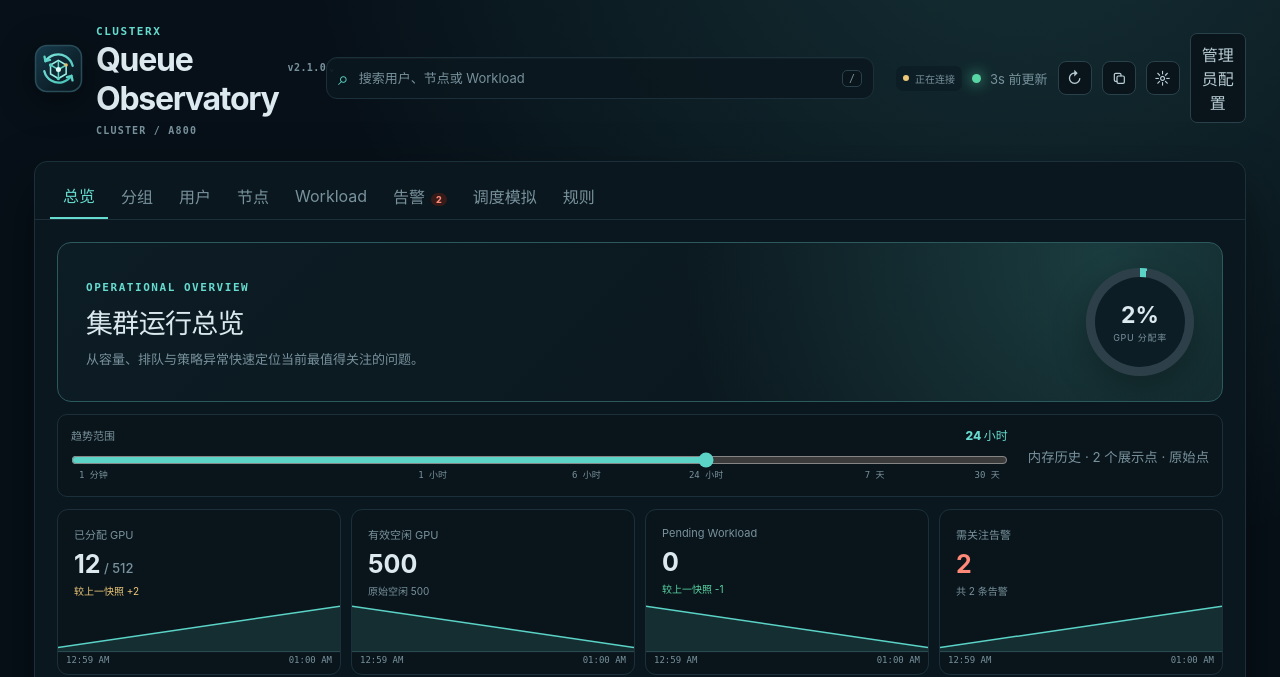
Clusterx monitor dashboard › combines resource, group-owned node and placement scopes when allocation is enabled
Check: the heading "Queue Observatory" is shown, box [96,40,278,118]
Click the button with aria-label "planner".
click(505, 196)  # box [460,173,550,219]
(page scrolled)
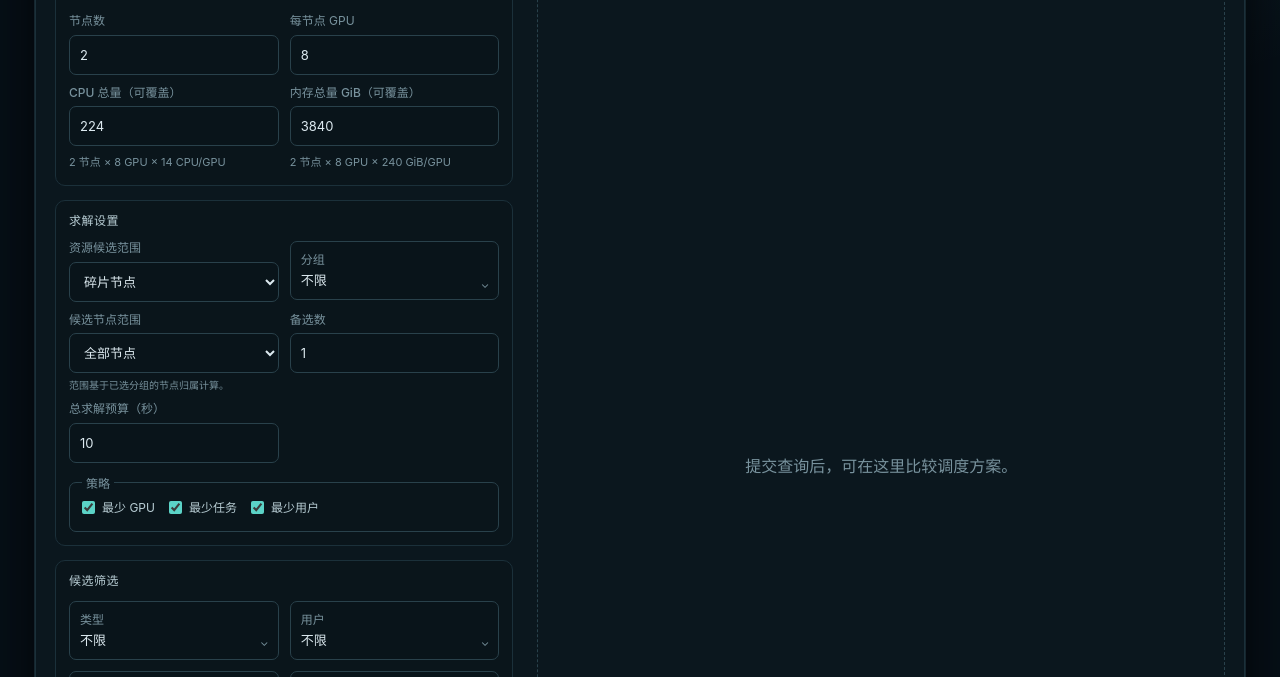
Check: the dropdown labelled "候选节点范围" is enabled
Select "所选分组节点" in the dropdown labelled "候选节点范围" at (174, 353), box [69,333,279,373]
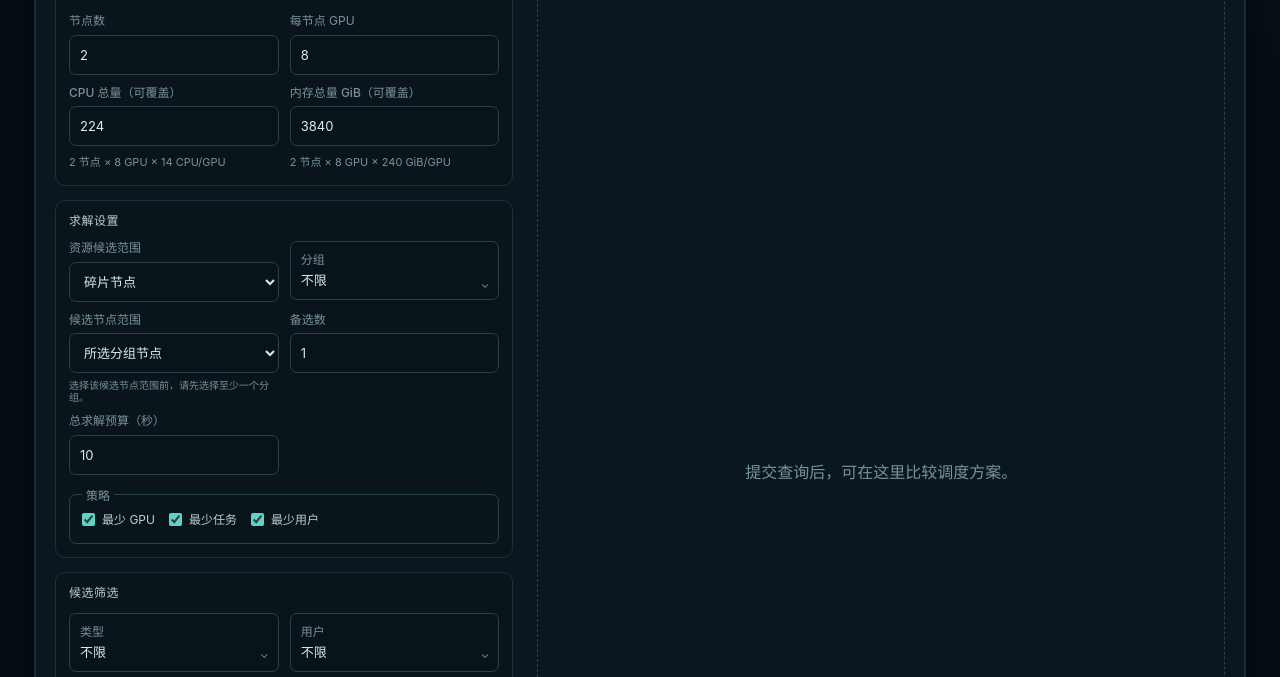
Check: the text "选择该候选节点范围前，请先选择至少一个分组。" is shown, box [69,379,279,403]
Click the text "分组".
click(313, 260)  # box [301,252,325,267]
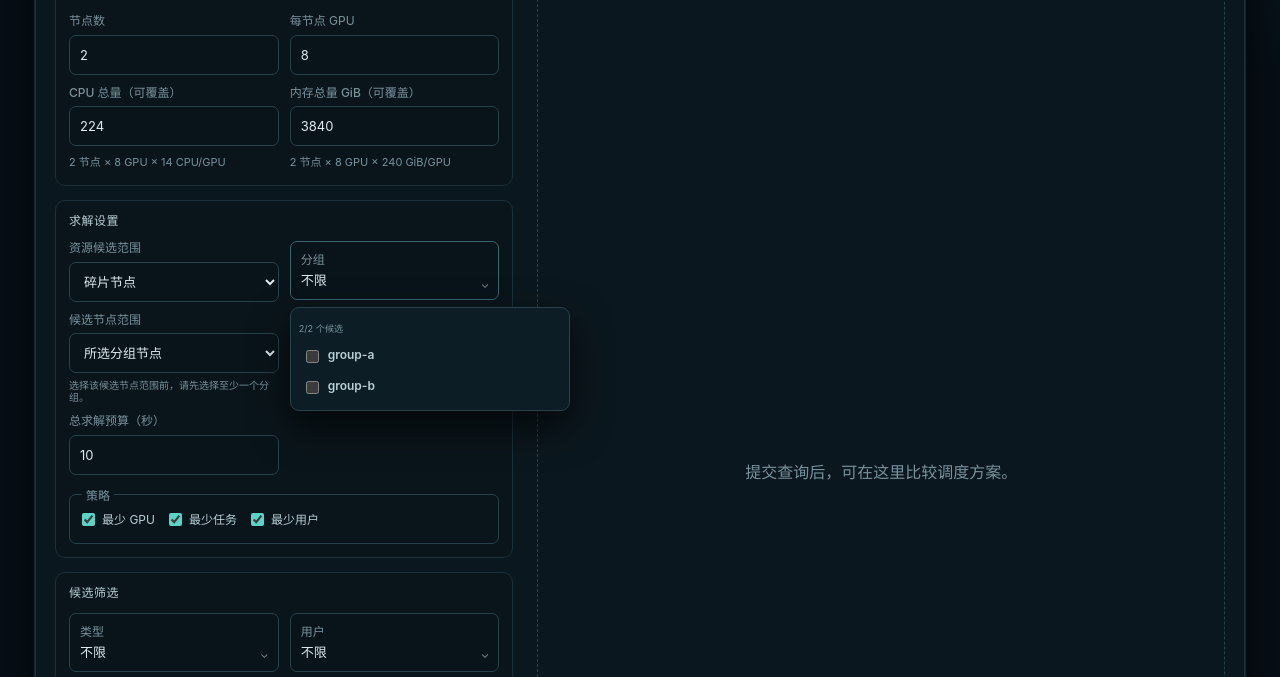
Click the checkbox named "分组：group-a".
click(312, 356)  # box [306,350,319,363]
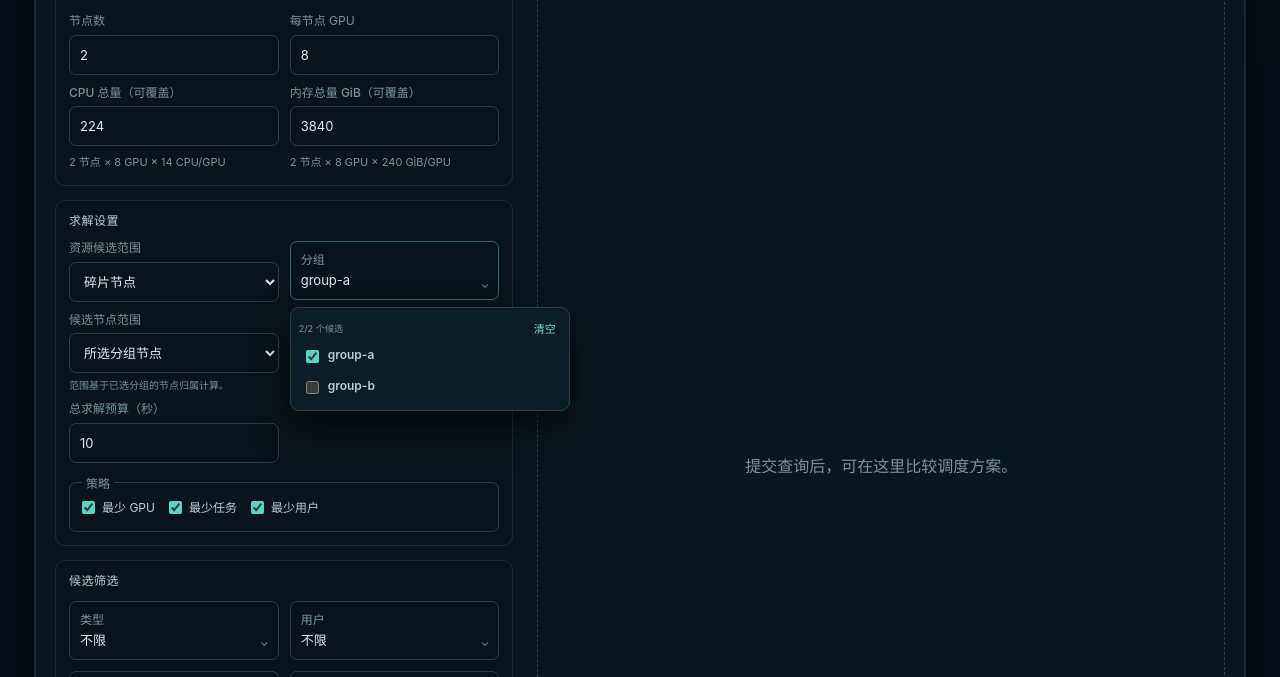
Check: the dropdown labelled "候选节点范围" is enabled
Select "其他分组节点" in the dropdown labelled "候选节点范围" at (174, 353), box [69,333,279,373]
(page scrolled)
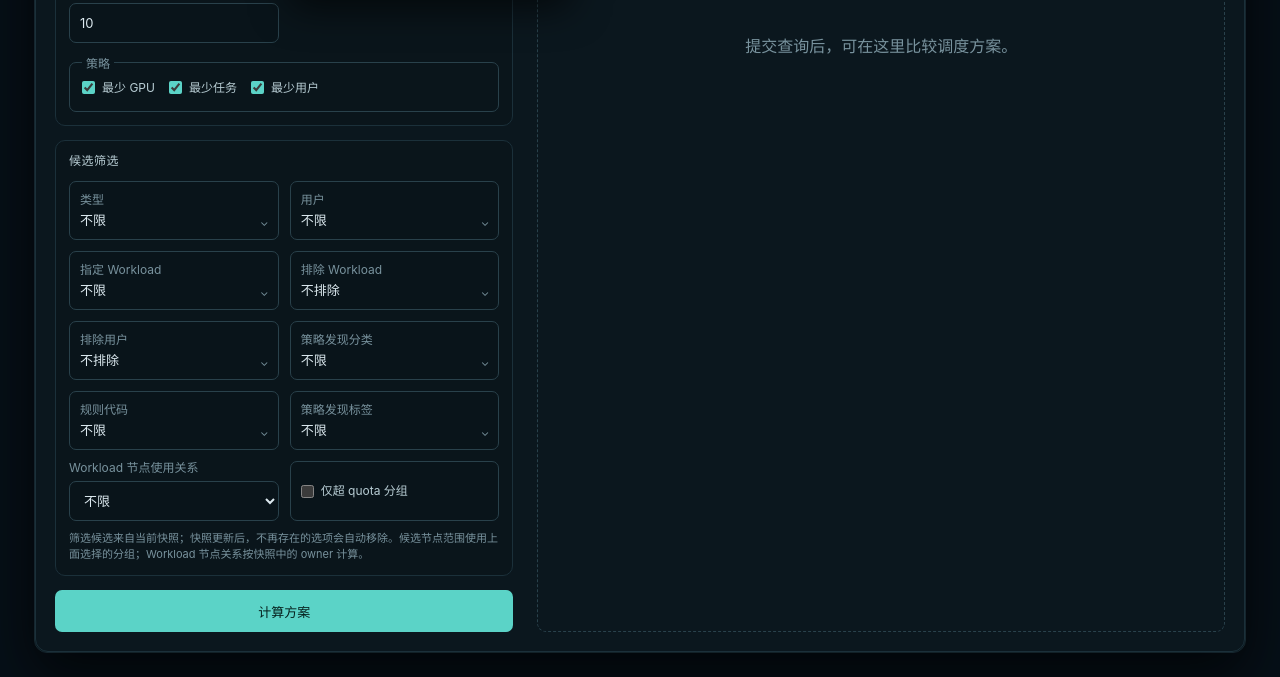
Select "仅其他组节点" in the dropdown labelled "Workload 节点使用关系" at (174, 501), box [69,481,279,521]
Click the button "计算方案".
click(284, 611)  # box [55,590,513,632]
(page scrolled)
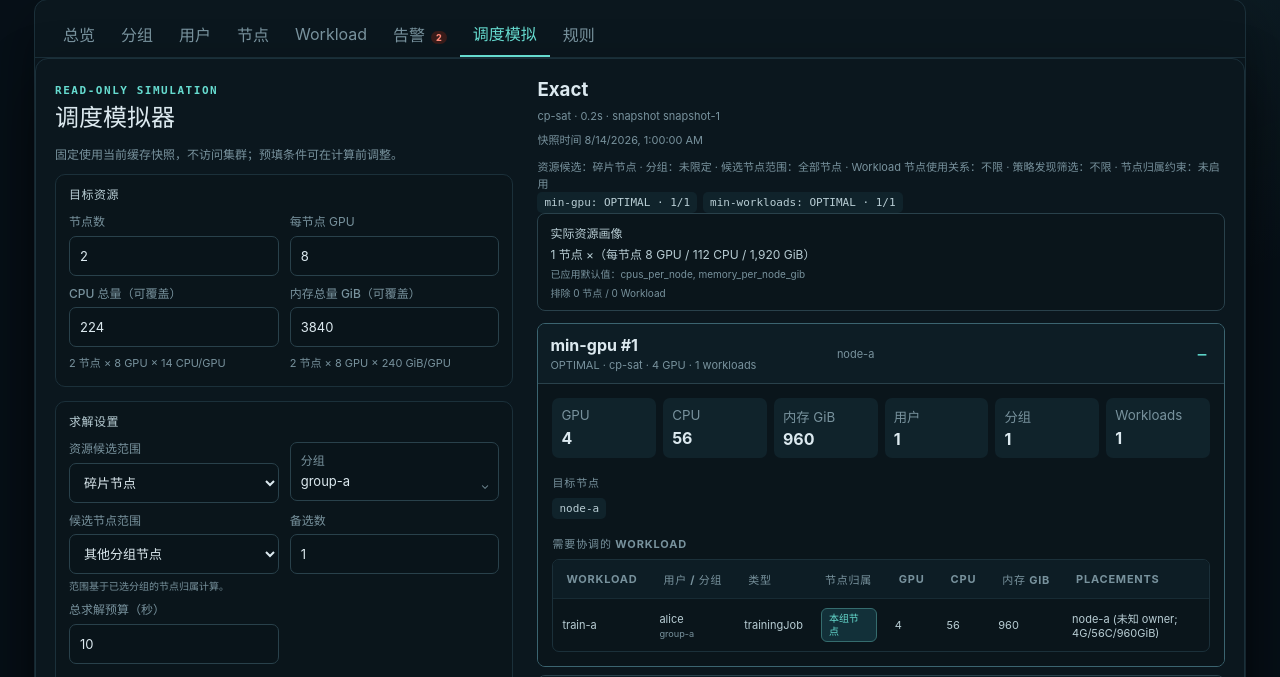
Check: the button "min-gpu #1 OPTIMAL · cp-sat · 4 GPU · 1 workloads node-a −" is shown, box [538,324,1224,383]
